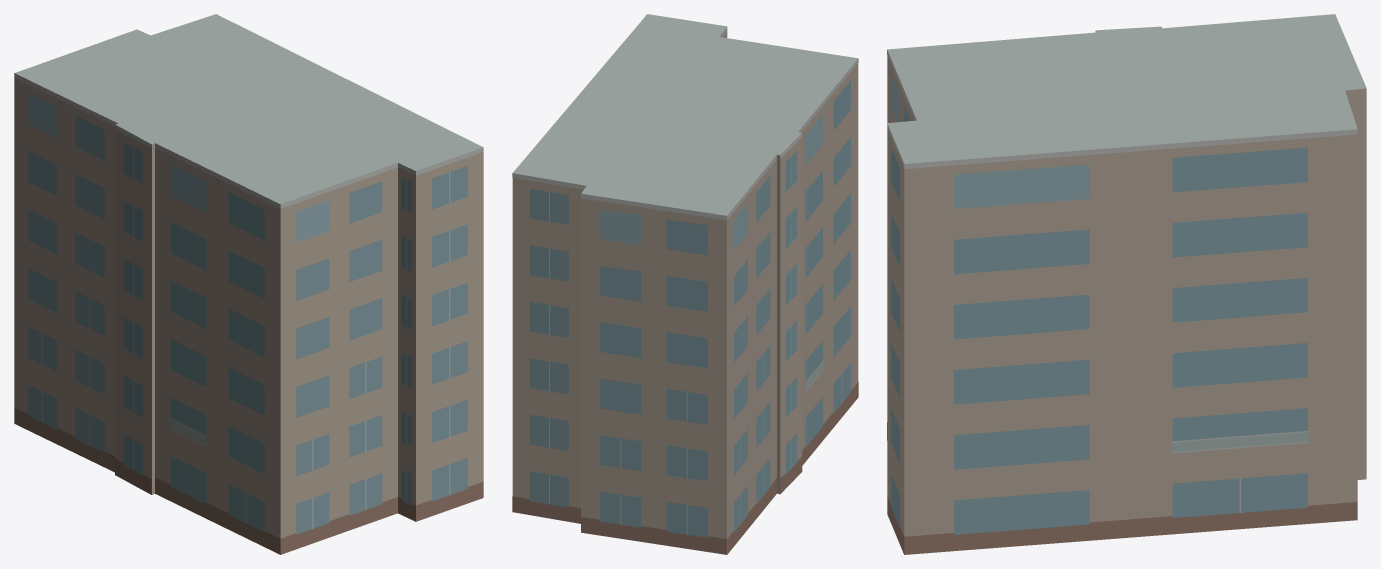
The model's file is survey-upis-33026558.glb.
The picture shows the model from 3 angles, left to right: view 1: azimuth 30°, elevation 25°; view 2: azimuth 150°, elevation 25°; view 3: azimuth 270°, elevation 25°; orthographic projection. The views are drawn at different scales.
Visible parts, largest first — view 1: survey-upis-33026558.tmp; view 2: survey-upis-33026558.tmp; view 3: survey-upis-33026558.tmp.
Part boxes in pixels (box(x1,y1,x2,y2)): survey-upis-33026558.tmp: box(14, 14, 483, 554); survey-upis-33026558.tmp: box(512, 14, 858, 554); survey-upis-33026558.tmp: box(887, 14, 1366, 554).
Bounding box in the file's own units: 15.08 × 18.3 × 20.36.
